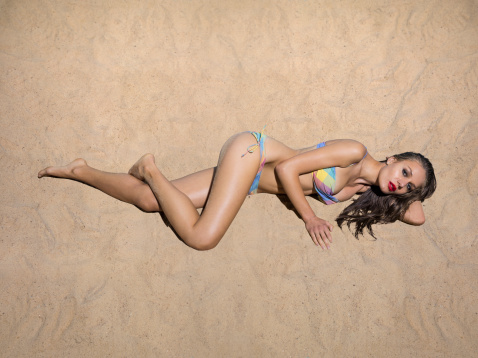deitado: (163, 127, 450, 239)
